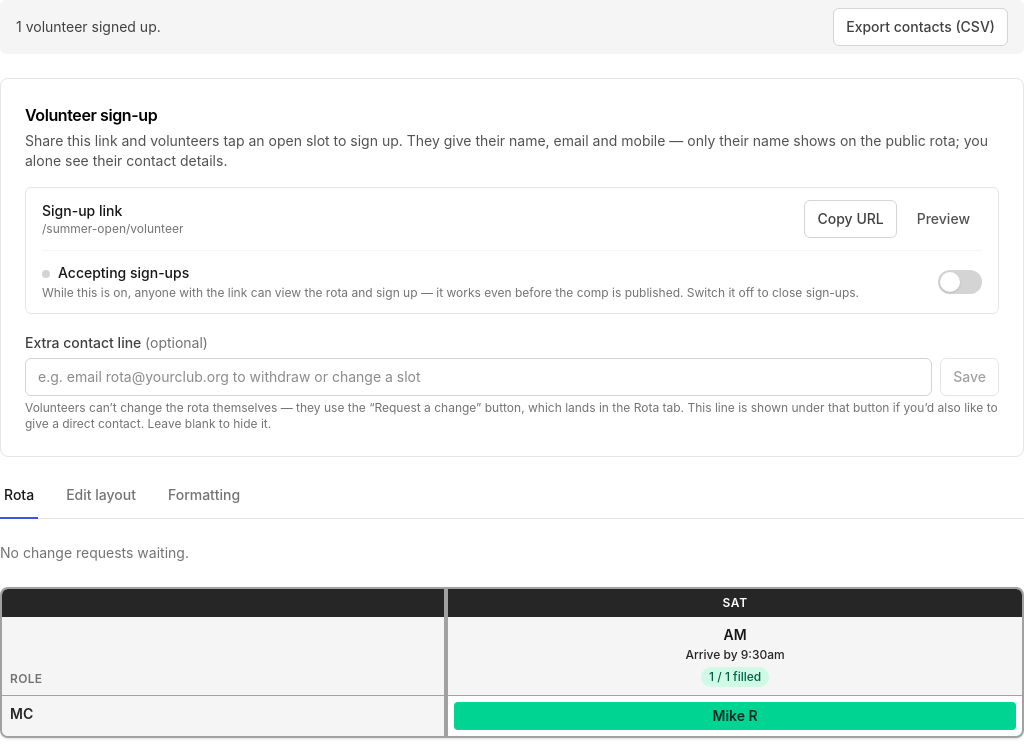
Test case: RotaBuilder — layout › shows the server's message when the spaces would drop below the people signed up
Click the tab "Edit layout": (101,500) [62,481,140,519]
(page scrolled)
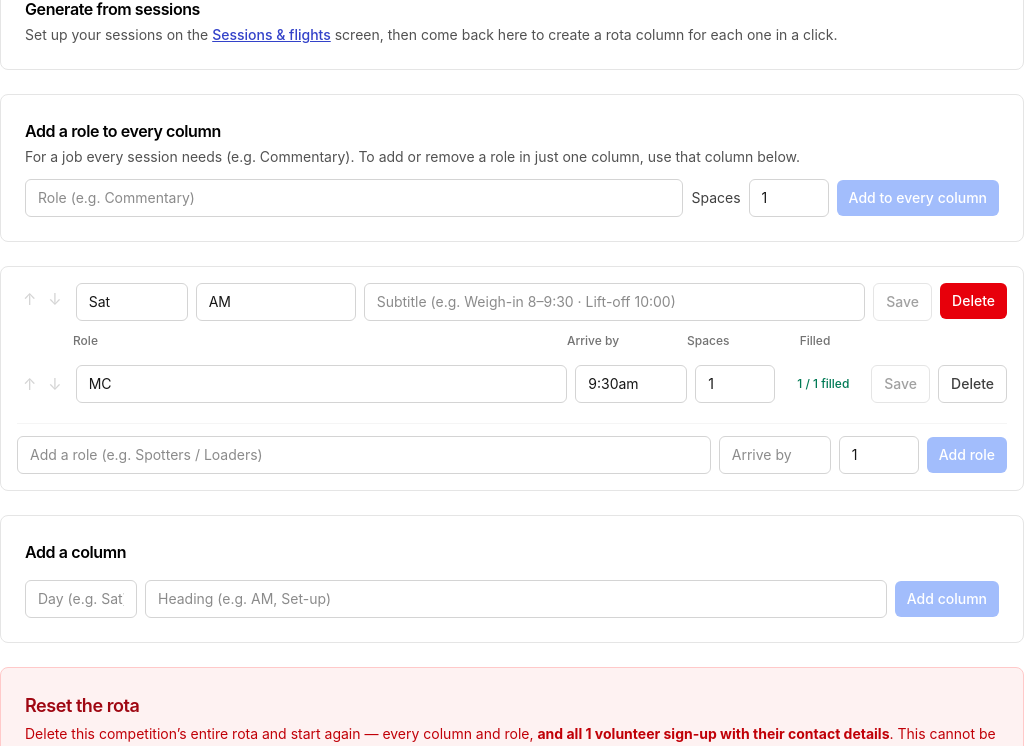
Replace the text in the field named "Role title" with "MC (main)": (322,384) [76,365,567,403]
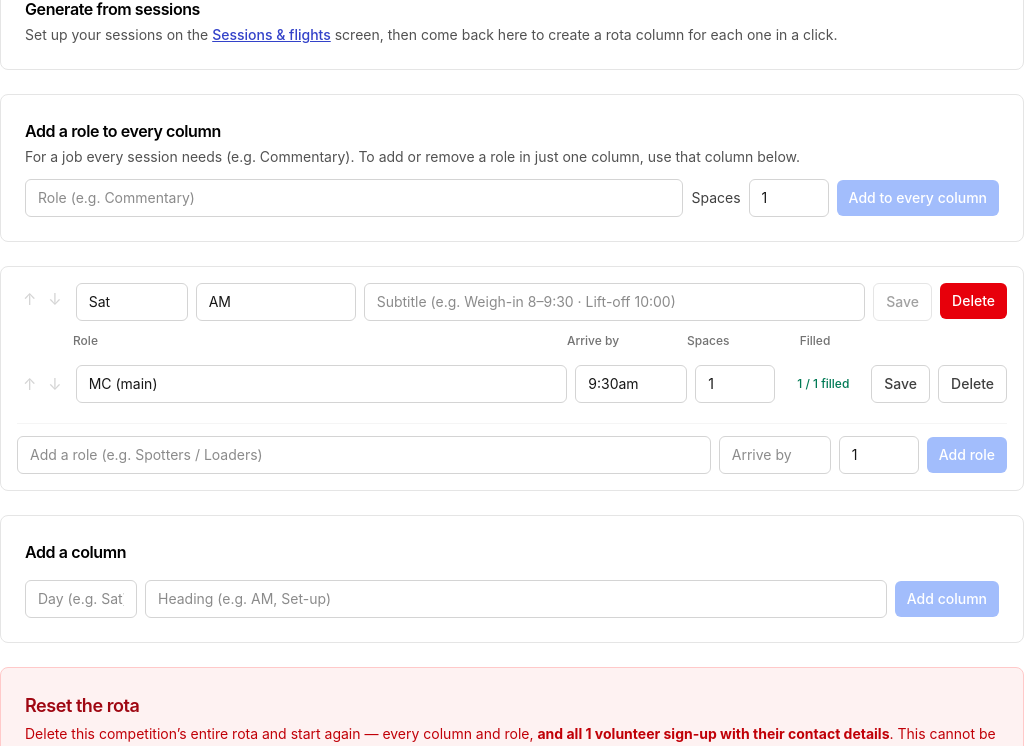
Click the 2nd button "Save": (901,384) [871,365,930,403]
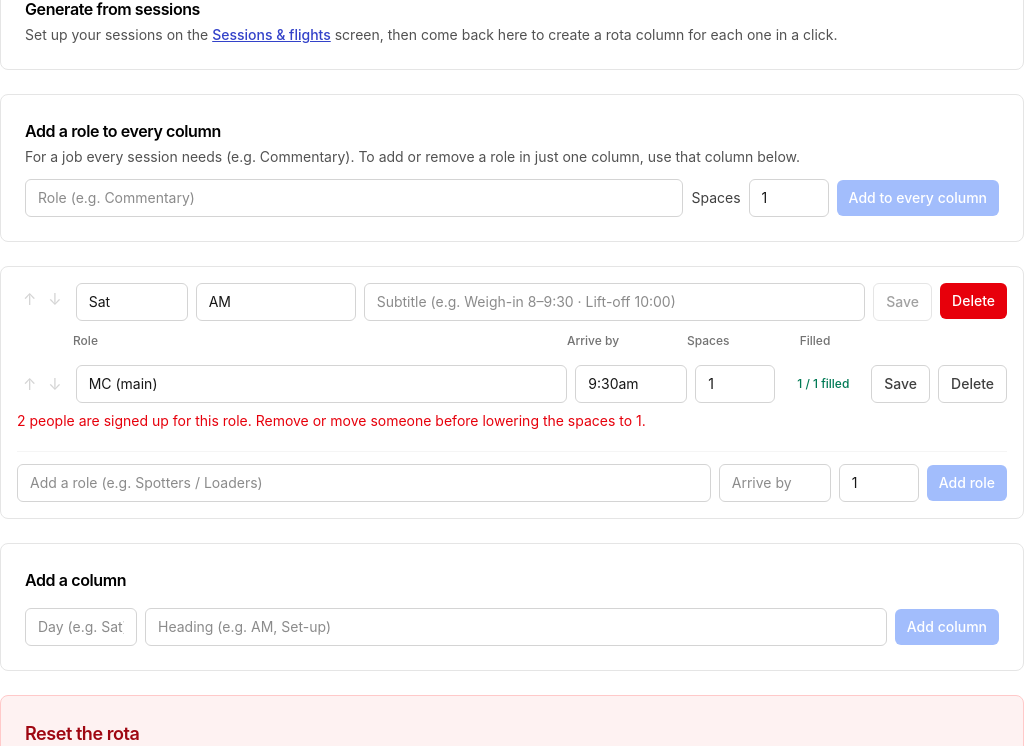
expect the text "before lowering the spaces" is shown: met, box [17,412,646,429]
